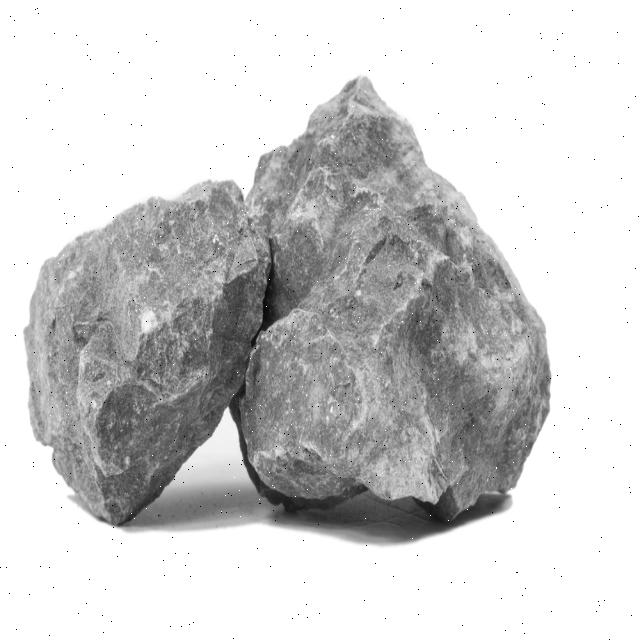Igneous: (8, 59, 609, 554)
